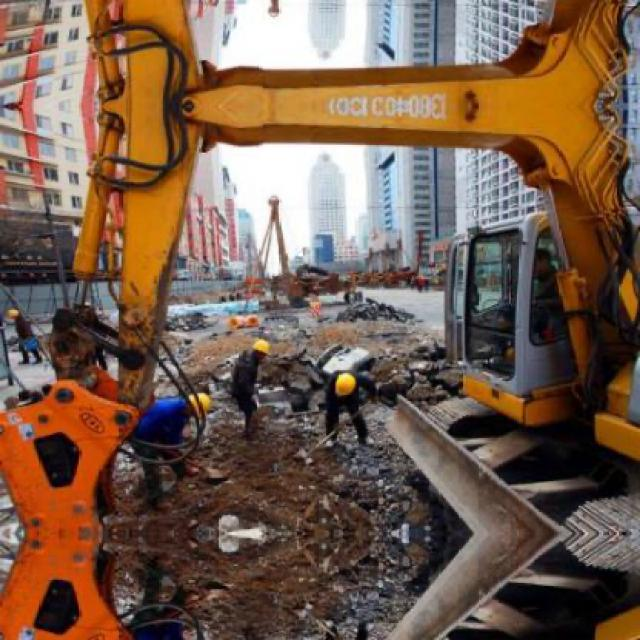helmet: (180, 392, 215, 422), (329, 372, 357, 401), (252, 338, 270, 359)
